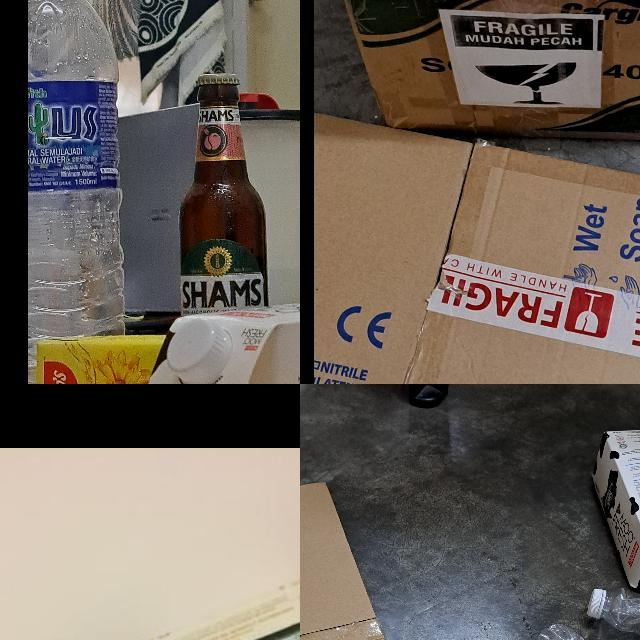caixinha: (133, 291, 300, 384), (591, 429, 640, 603), (29, 331, 182, 384)
garrafa de vidro: (0, 558, 300, 640), (176, 74, 270, 328)
garrafa plástica: (27, 0, 132, 384), (588, 584, 640, 640), (587, 588, 607, 620)
papelão: (313, 103, 640, 384), (332, 0, 640, 148), (300, 480, 492, 640)
tampa plástica: (160, 317, 237, 384)
